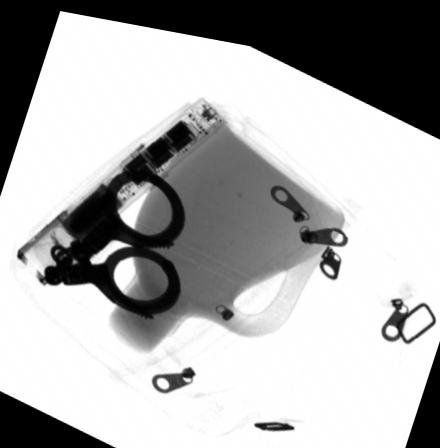Baton: (56, 88, 224, 238)
HandCuffs: (42, 165, 185, 311)
